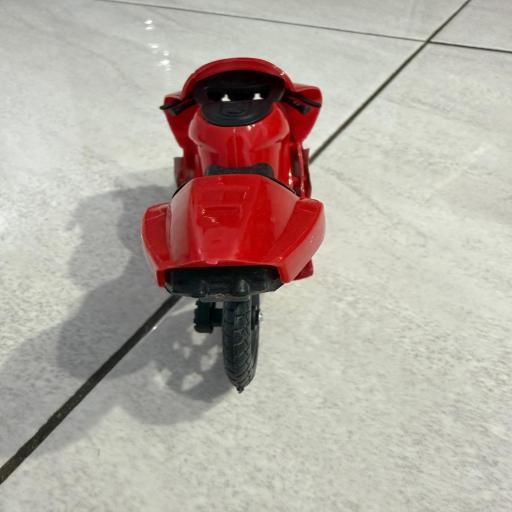motor-merah: (139, 50, 331, 396)
